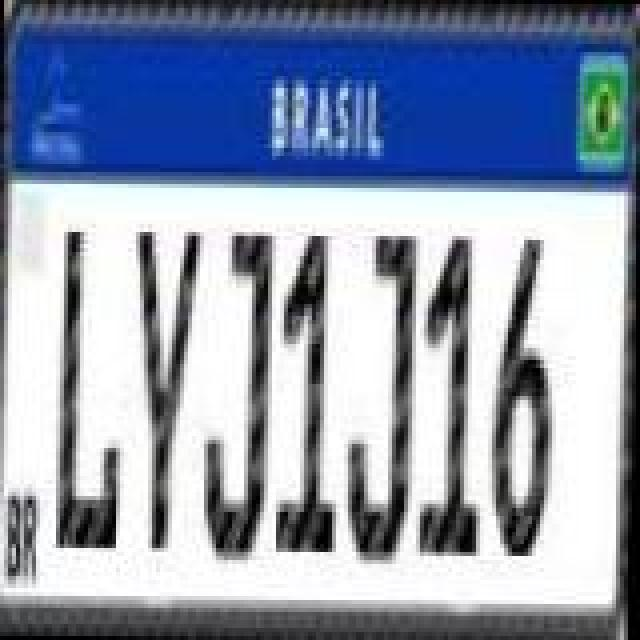1: (416, 226, 492, 562), (272, 230, 348, 554)
6: (486, 234, 558, 558)
J: (204, 230, 280, 566), (346, 230, 418, 574)
L: (56, 226, 124, 550)
Y: (128, 222, 204, 558)
